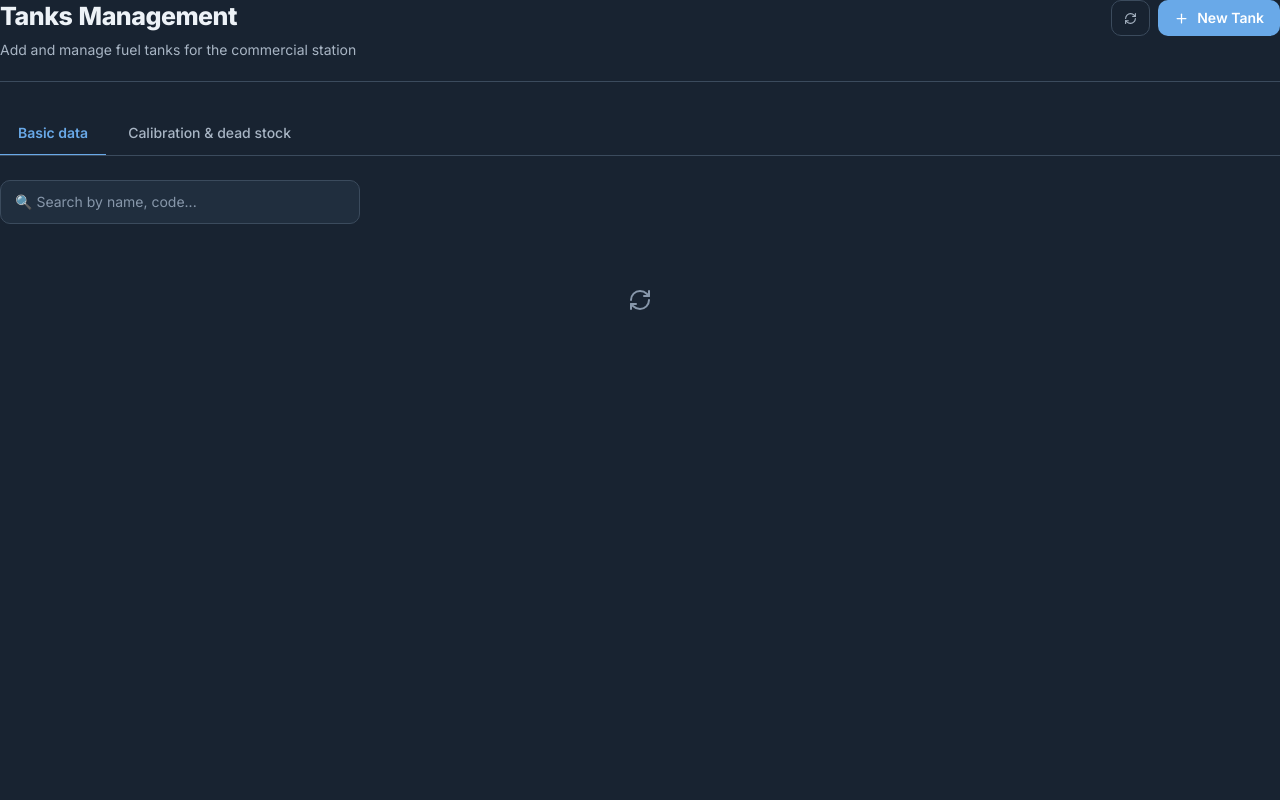
Test: commercial create sends main role and shape without subStationId and surfaces the server error
The image size is (1280, 800).
Click the button "New Tank" at coordinates (1219, 18), box x1=1158 y1=0 x2=1279 y2=36
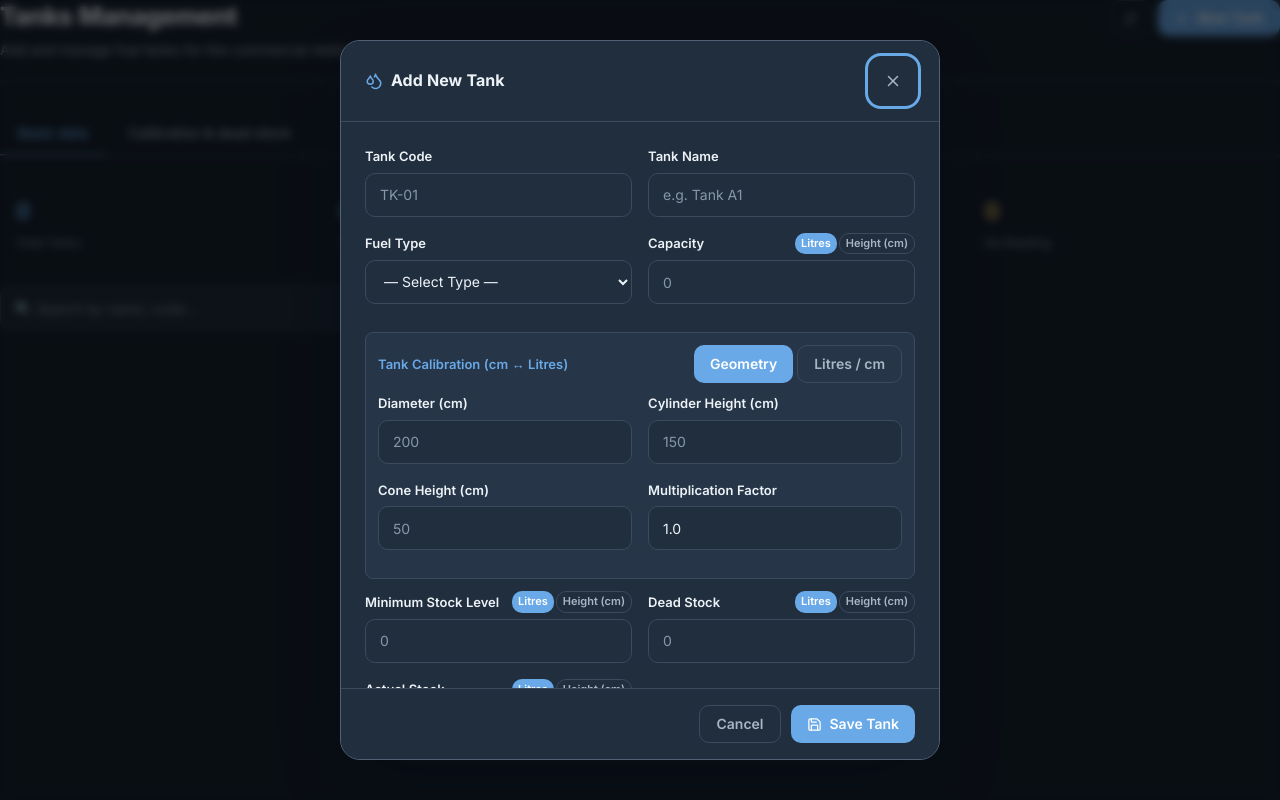
Type "MT-01" into the field with placeholder "TK-01" at coordinates (498, 195), box x1=365 y1=173 x2=632 y2=217
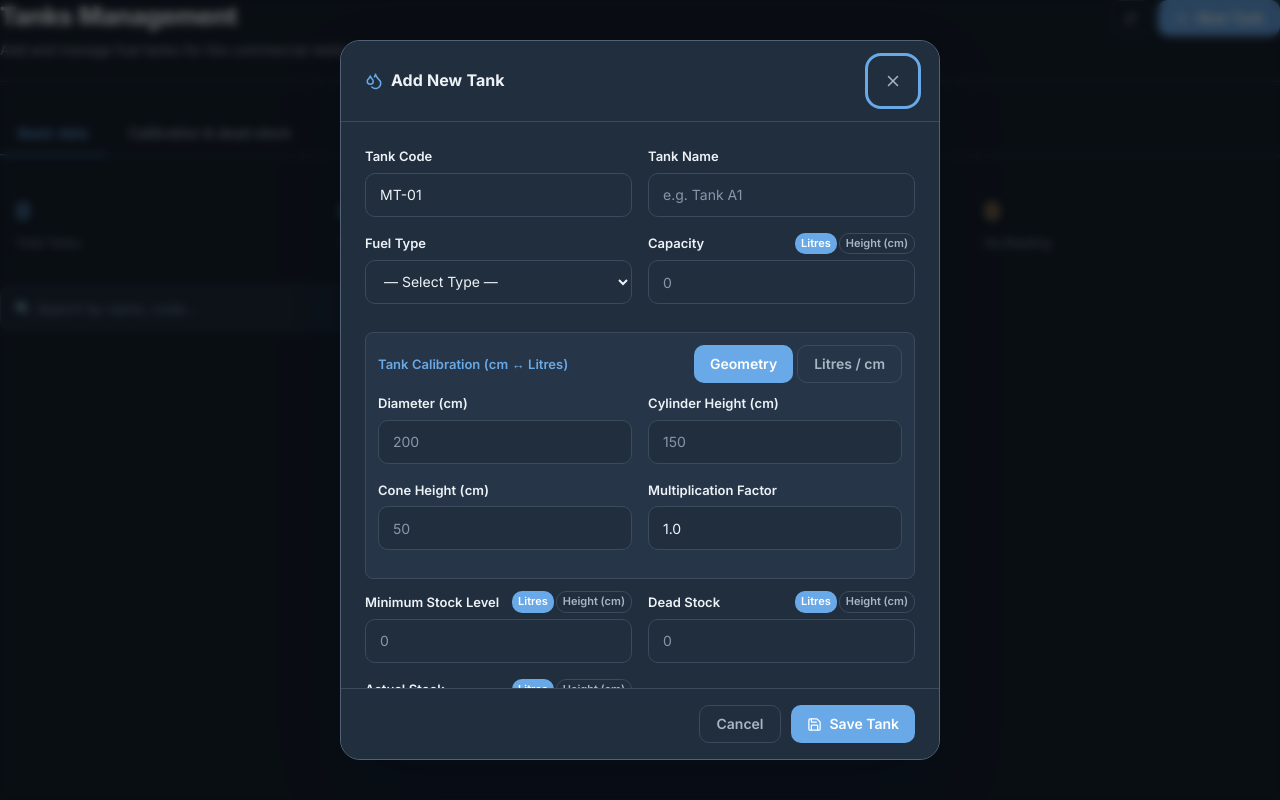
Type "Main Tank" into the field with placeholder "e.g. Tank A1" at coordinates (782, 195), box x1=648 y1=173 x2=915 y2=217
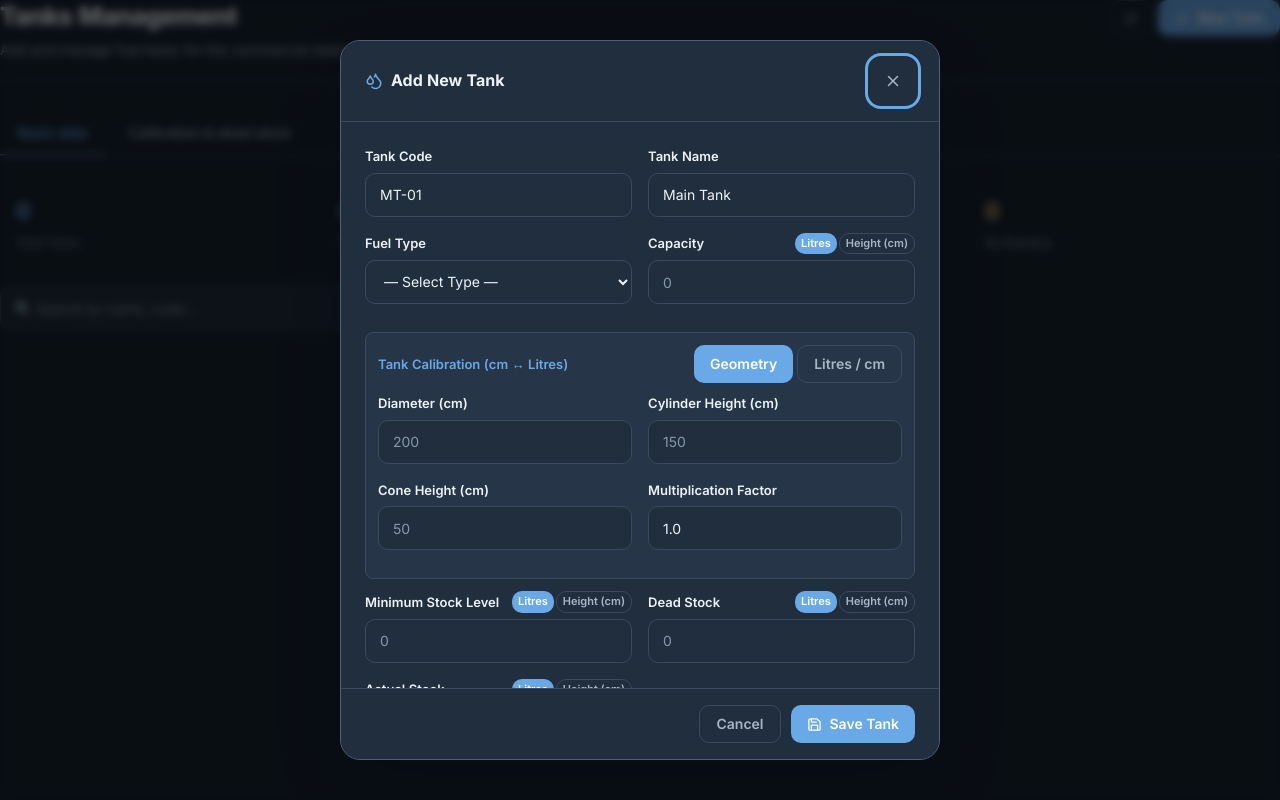
Select "Diesel" in the dropdown labelled "Fuel Type" at coordinates (498, 282), box x1=365 y1=260 x2=632 y2=304
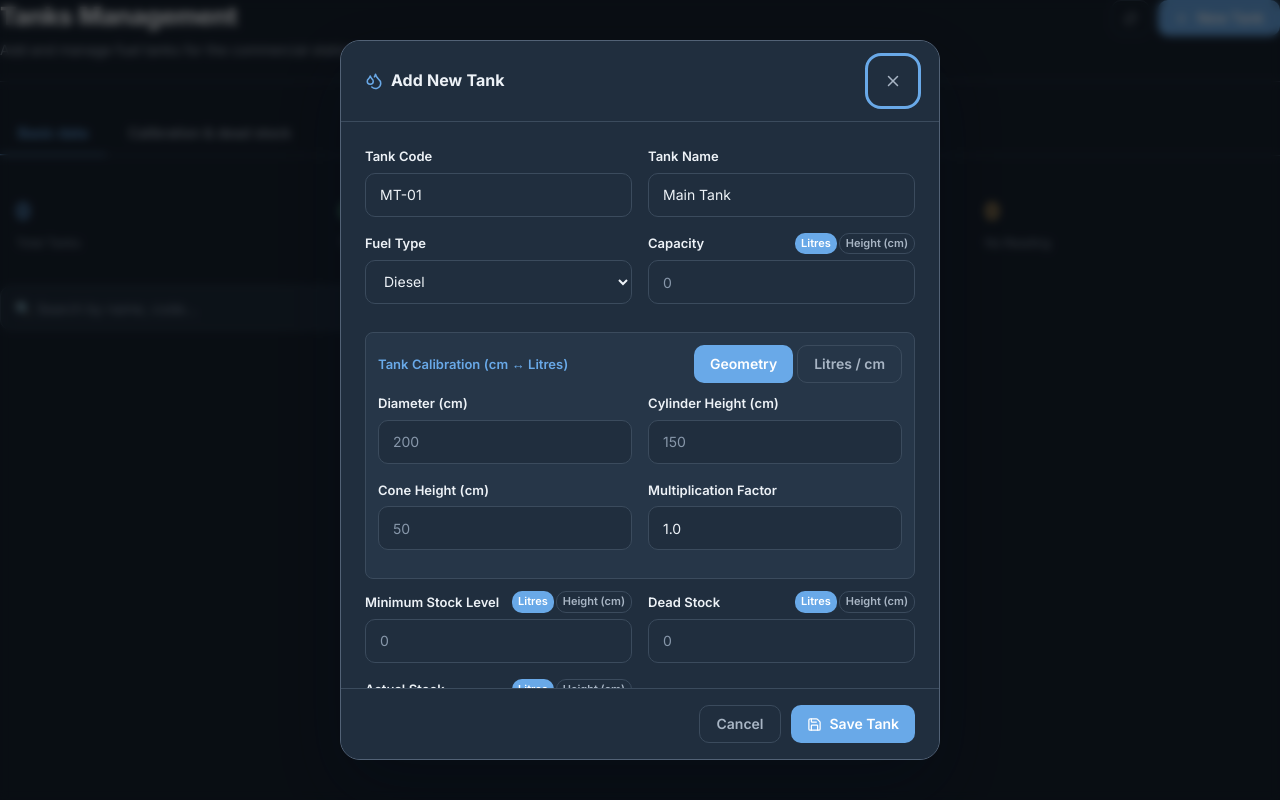
Type "5000" into the number field with placeholder "0" below "Fuel Type" at coordinates (782, 282), box x1=648 y1=260 x2=915 y2=304
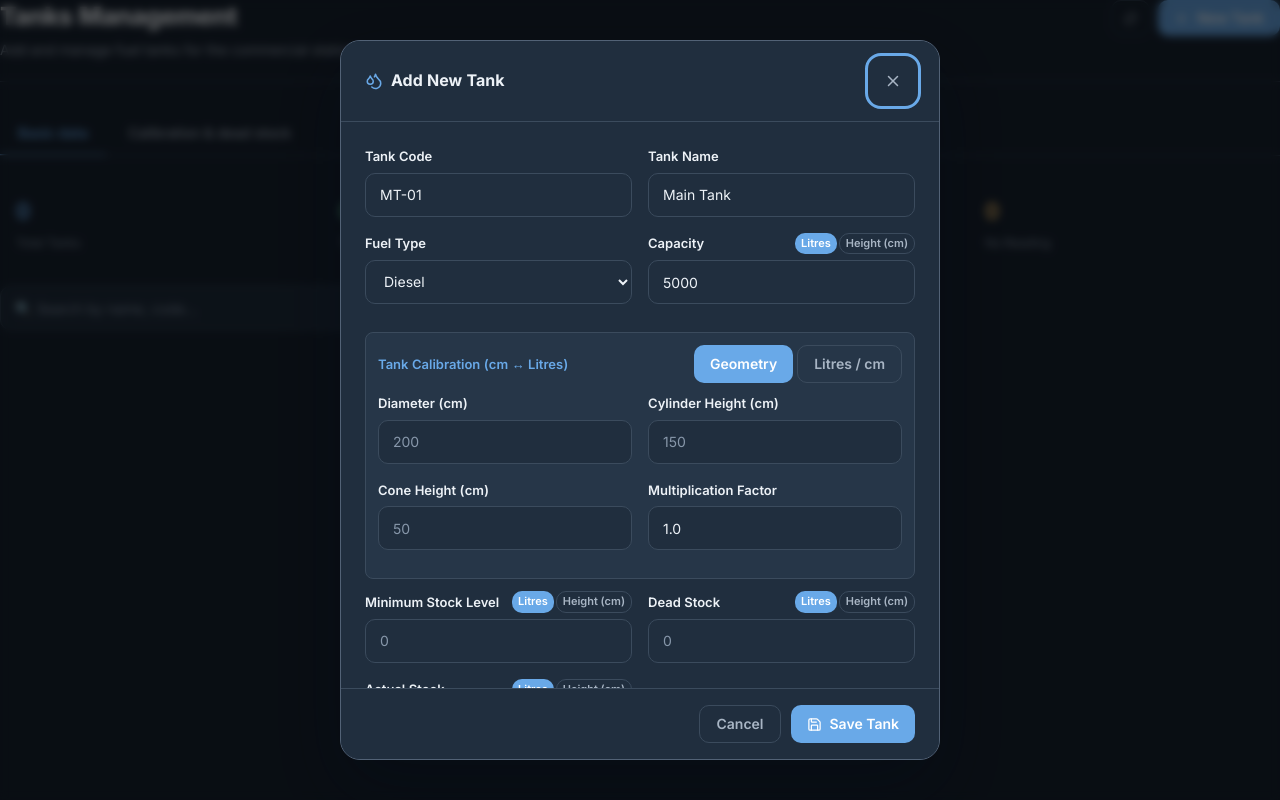
Click the button "Save Tank" at coordinates (853, 724), box x1=790 y1=705 x2=915 y2=743
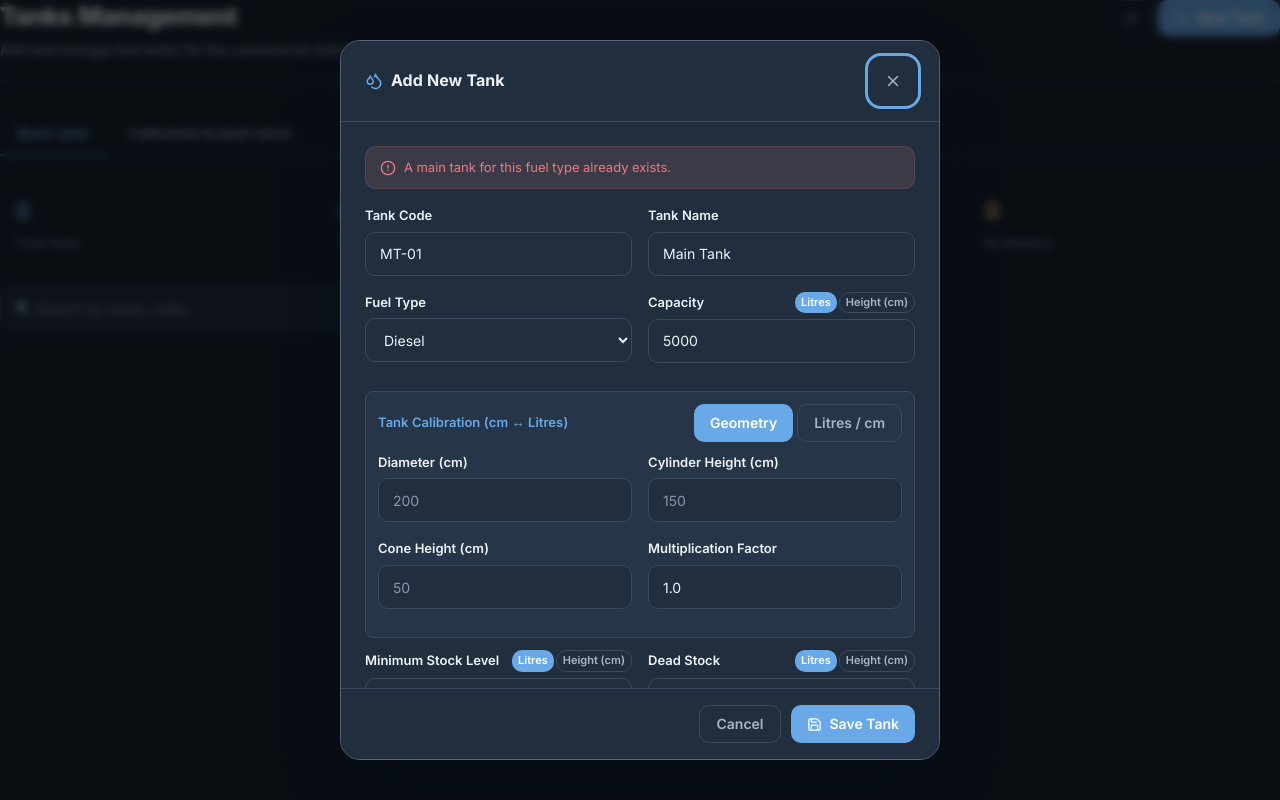
Now the text "A main tank for this fuel type already exists." is shown, box x1=365 y1=146 x2=915 y2=189
